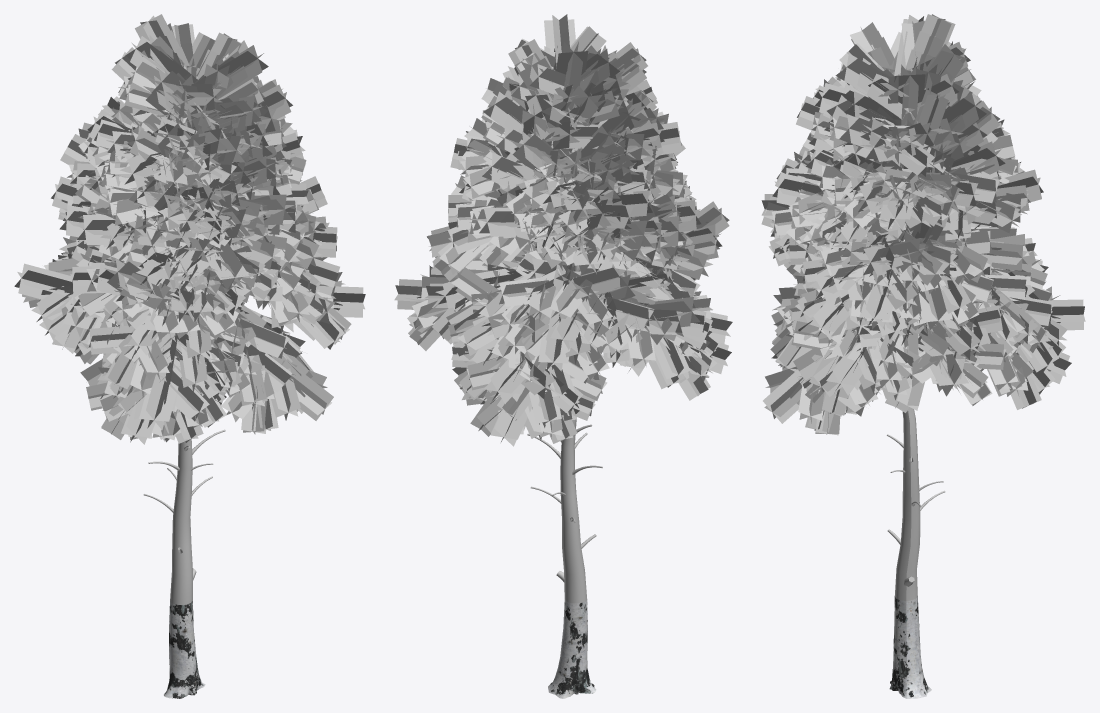
Rendered from 00 _pine 1.FBX.
3 views of the same model, side by side, from view 1: azimuth 30°, elevation 25°; view 2: azimuth 150°, elevation 25°; view 3: azimuth 270°, elevation 25° (orthographic).
Parts seen in each view (by area): view 1: pine 1; view 2: pine 1; view 3: pine 1.
Boxes of the visible parts, box(x1,y1,x2,y2) form: pine 1: box(14, 14, 365, 698); pine 1: box(394, 14, 732, 698); pine 1: box(761, 14, 1085, 698).
Size of the model in its own units: 4.15 by 8.73 by 3.84.
